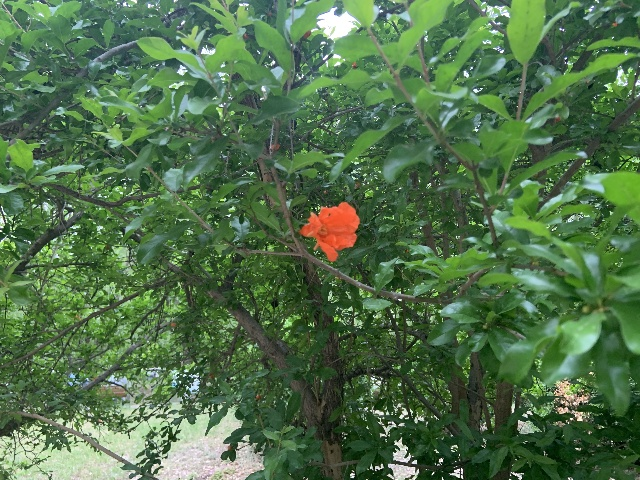bud: (303, 30, 311, 39), (355, 183, 359, 187), (323, 190, 326, 193)
flower: (299, 202, 359, 261), (351, 62, 356, 67)
